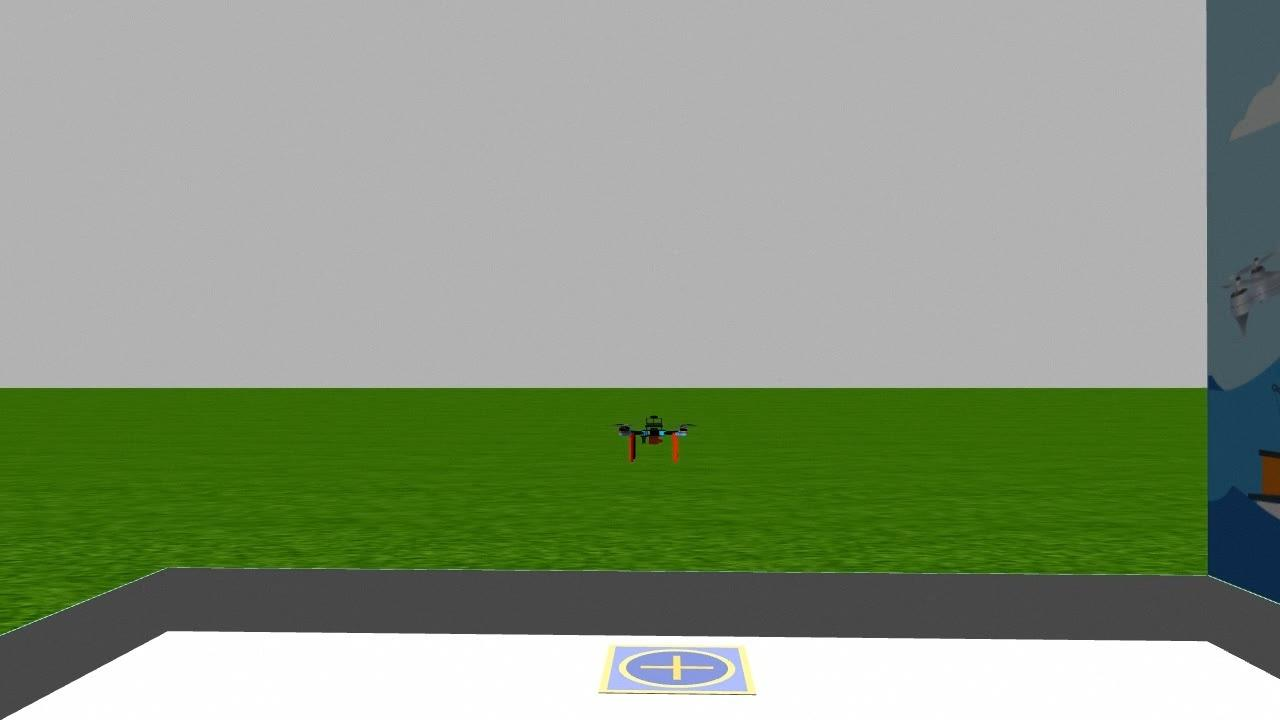UAV: (602, 403, 709, 472)
